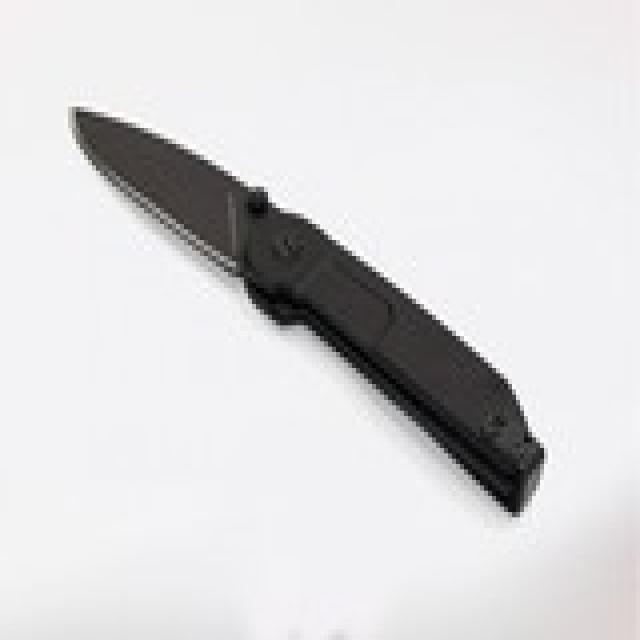Knife: (57, 75, 542, 523)
